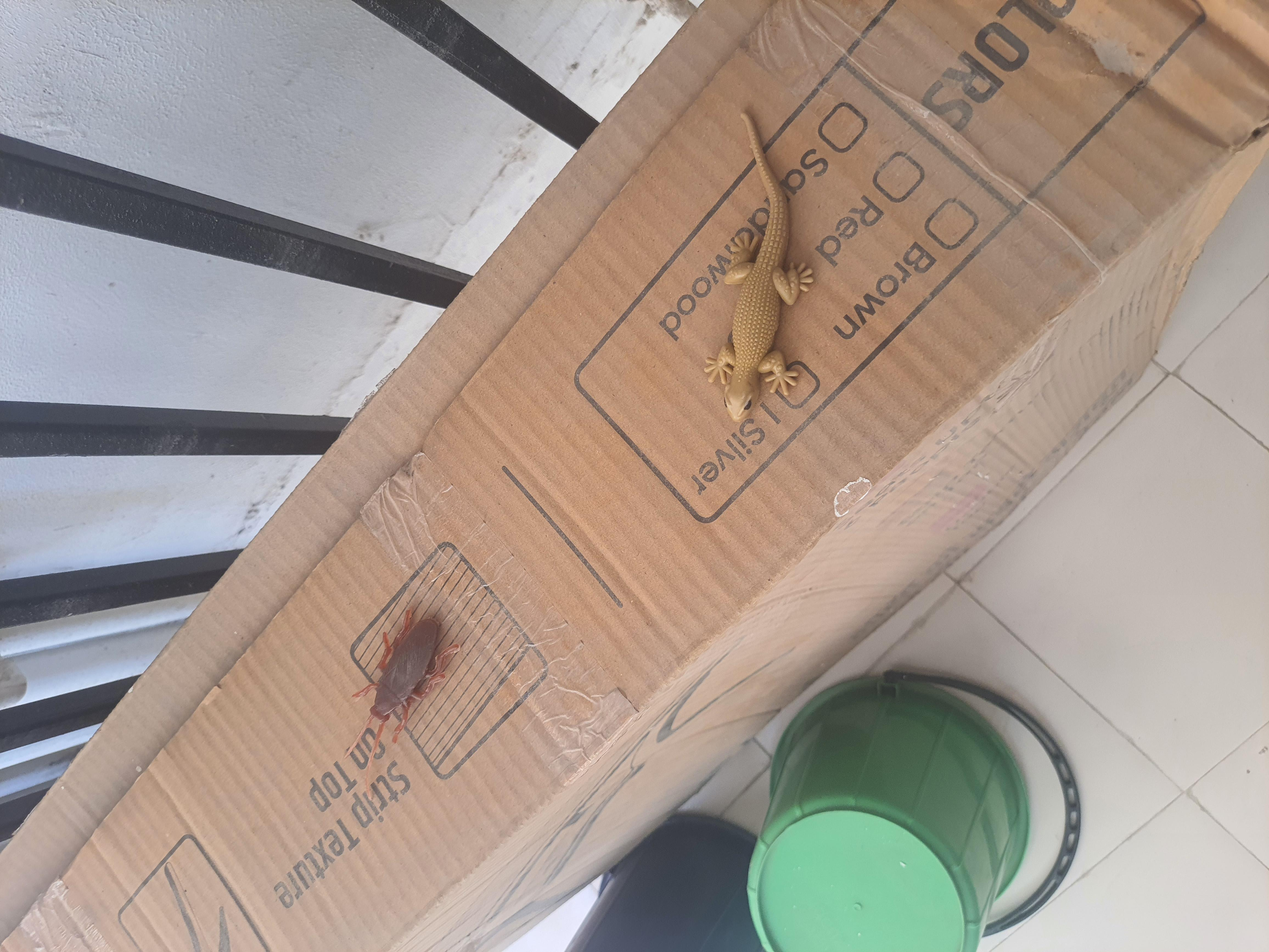cockroach: (206, 252, 479, 342)
lizard: (693, 528, 1130, 622)
